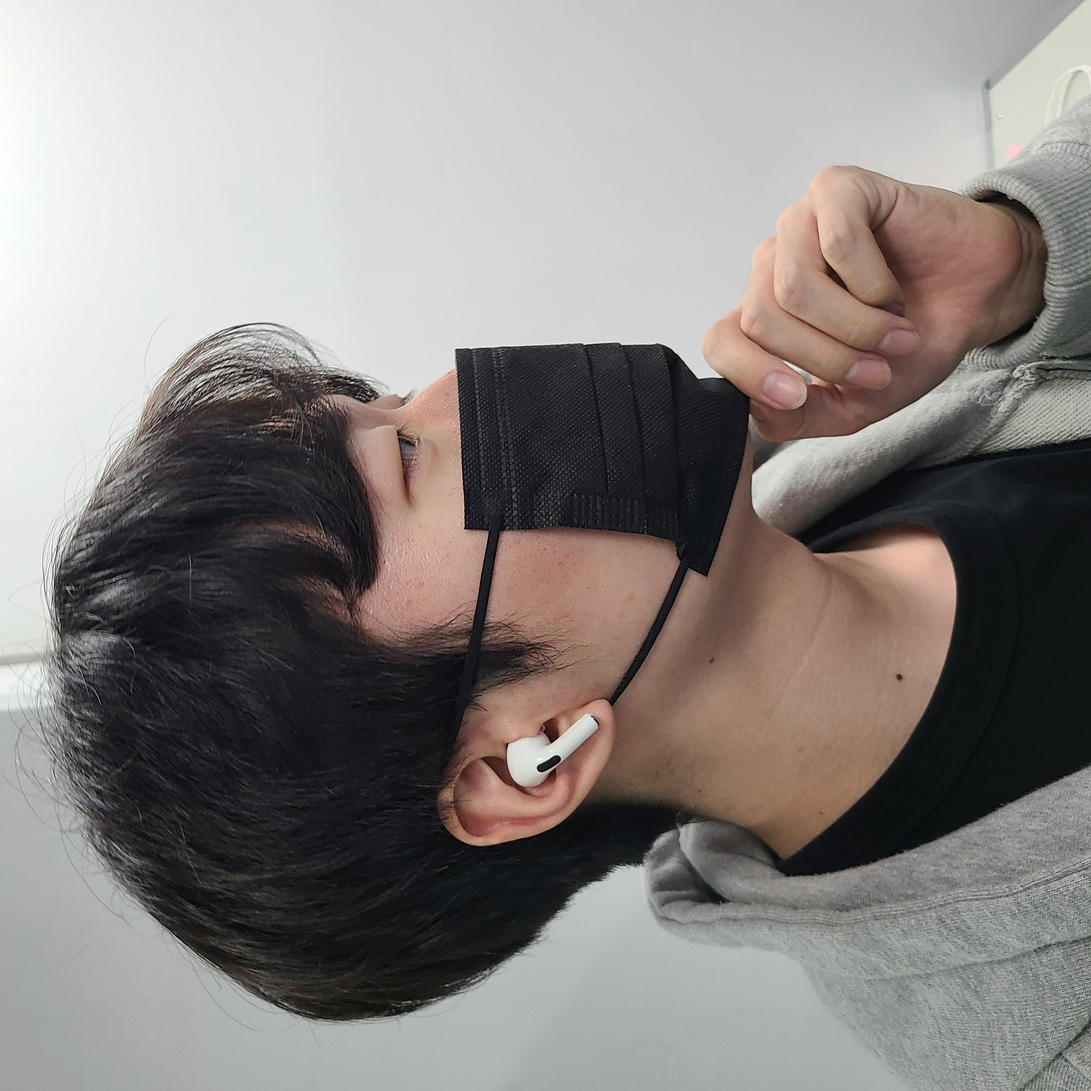earphone: (298, 498, 381, 609)
